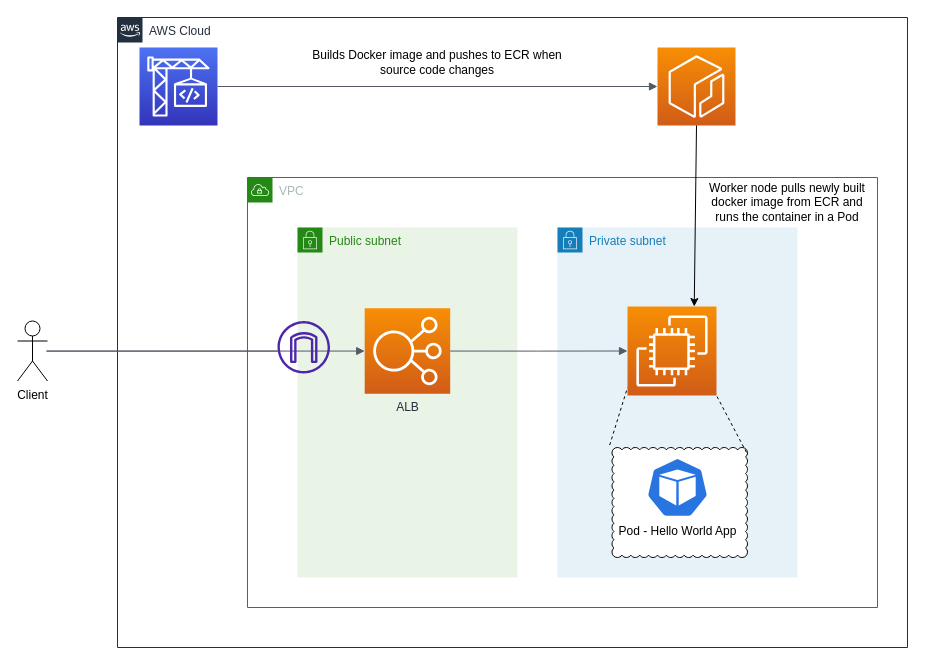
The diagram is 925 pixels wide and 665 high, and some of its shapes have lost their labels. Here are the shapes that lost their labels. From the top down, the centre of each, then its label:
(x=178, y=86): GitHub Actions
(x=696, y=86): Elastic Container Registry
(x=303, y=346): Internet Gateway
(x=671, y=351): Worker Node
